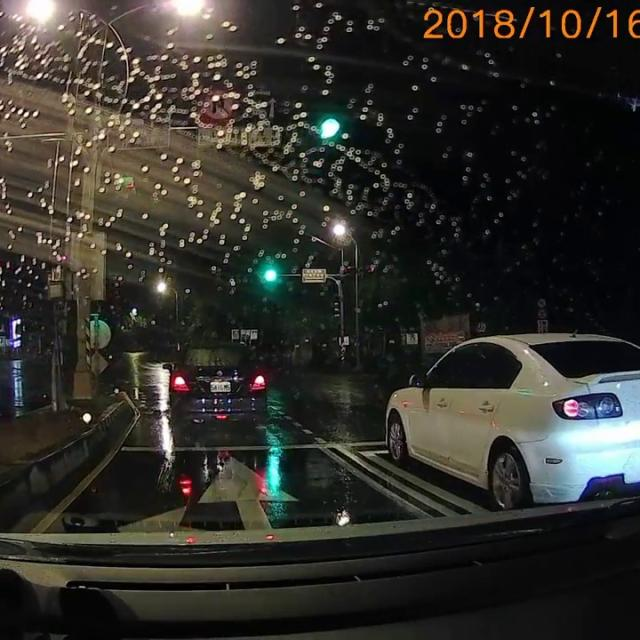Car: (381, 331, 639, 512), (161, 338, 267, 425)
